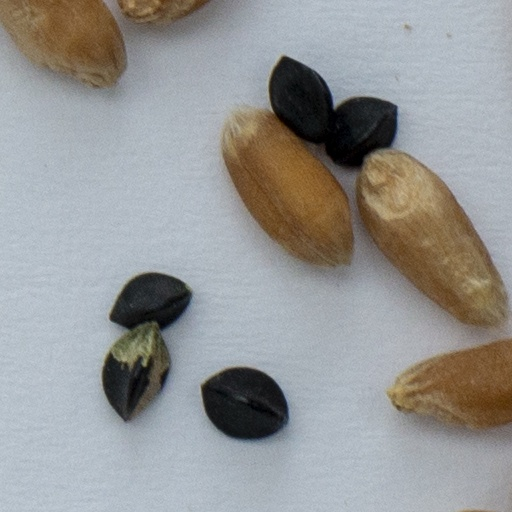Fallopia-Convolvulus-poly: (103, 323, 167, 420), (202, 367, 287, 437), (269, 57, 334, 141), (325, 98, 396, 160), (110, 273, 188, 328)
